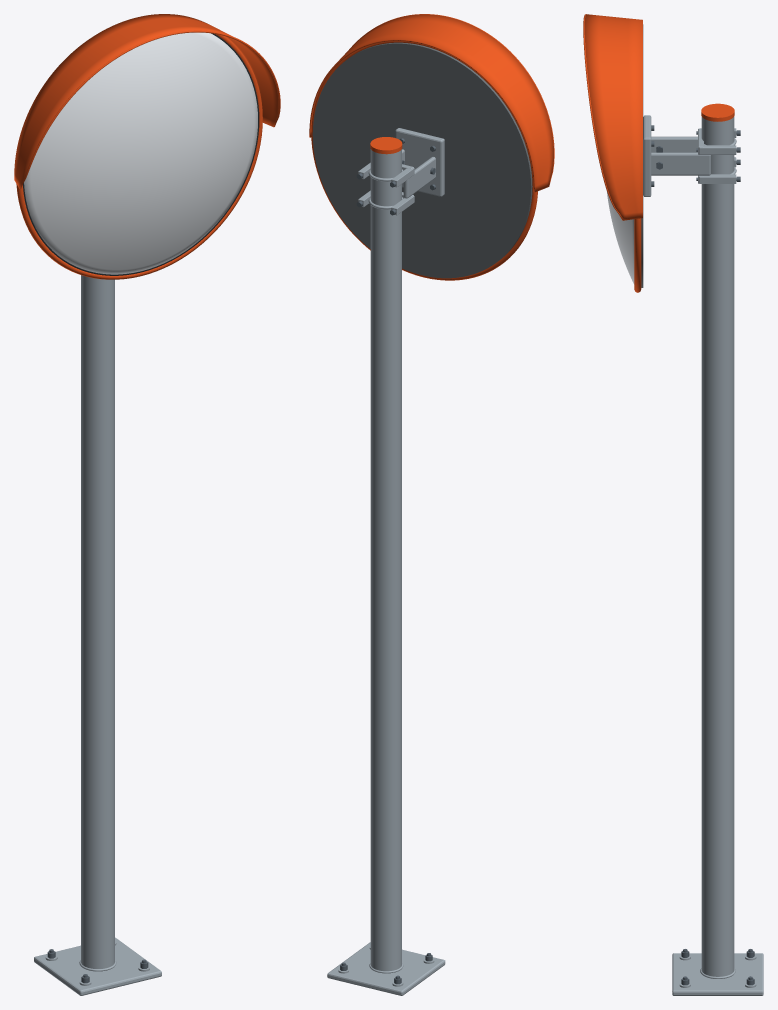
Rendered from convex_traffic_mirror_LOD0.glb.
3 renders of one model, left to right at view 1: azimuth 30°, elevation 25°; view 2: azimuth 150°, elevation 25°; view 3: azimuth 270°, elevation 25°, orthographic. The views are drawn at different scales.
Parts seen in each view (by area): view 1: Convex_Mirror_Face, Steel_Pole, Orange_Rain_Hood, Ground_Base_Plate, Orange_Perimeter_Rim, Hood_Rolled_Edge, Perimeter_Gasket; view 2: Flat_Rear_Panel, Steel_Pole, Orange_Rain_Hood, Ground_Base_Plate, Rear_Mounting_Plate, Orange_Perimeter_Rim, Adjustable_Clevis_Arm_-0.043; view 3: Steel_Pole, Orange_Rain_Hood, Ground_Base_Plate, Adjustable_Clevis_Arm_0.043, Convex_Mirror_Face, Adjustable_Clevis_Arm_-0.043, Rear_Mounting_Plate, Orange_Perimeter_Rim, Post_Top_Cap, Hood_Rolled_Edge.
Part boxes in pixels (x1,y1,x2,y2): Convex_Mirror_Face: (24, 32, 257, 274); Steel_Pole: (81, 275, 114, 968); Orange_Rain_Hood: (14, 14, 278, 187); Ground_Base_Plate: (34, 937, 161, 995); Orange_Perimeter_Rim: (16, 34, 262, 279); Hood_Rolled_Edge: (19, 30, 280, 188); Perimeter_Gasket: (23, 33, 259, 275); Flat_Rear_Panel: (312, 42, 532, 278); Steel_Pole: (370, 149, 401, 971); Orange_Rain_Hood: (309, 14, 553, 192); Ground_Base_Plate: (327, 942, 445, 995); Rear_Mounting_Plate: (395, 128, 444, 196); Orange_Perimeter_Rim: (311, 41, 537, 280); Adjustable_Clevis_Arm_-0.043: (403, 157, 435, 198); Steel_Pole: (701, 116, 734, 976); Orange_Rain_Hood: (584, 14, 642, 220); Ground_Base_Plate: (672, 953, 763, 995); Adjustable_Clevis_Arm_0.043: (651, 152, 710, 175); Convex_Mirror_Face: (607, 192, 634, 284); Adjustable_Clevis_Arm_-0.043: (651, 136, 697, 152); Rear_Mounting_Plate: (643, 115, 651, 196); Orange_Perimeter_Rim: (634, 218, 641, 292); Post_Top_Cap: (701, 103, 734, 121); Hood_Rolled_Edge: (583, 14, 623, 220).
Bounding box in the file's own units: 0.6529 × 2.41 × 0.4142.
